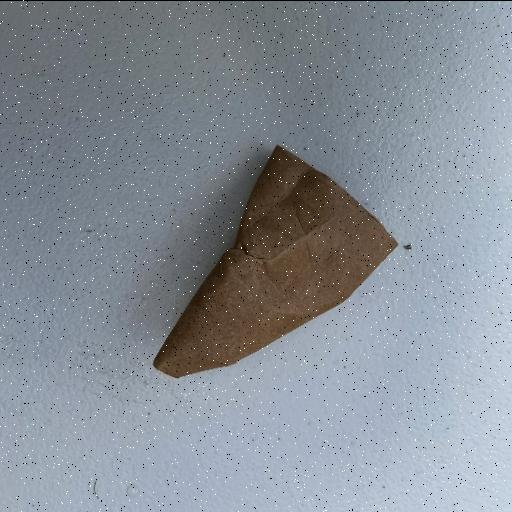Cardboard: (150, 142, 400, 380)
